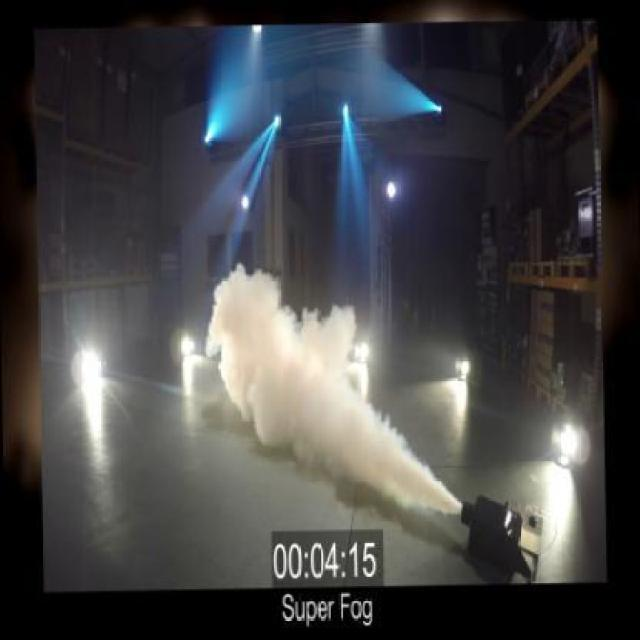fire: (204, 260, 430, 517)
